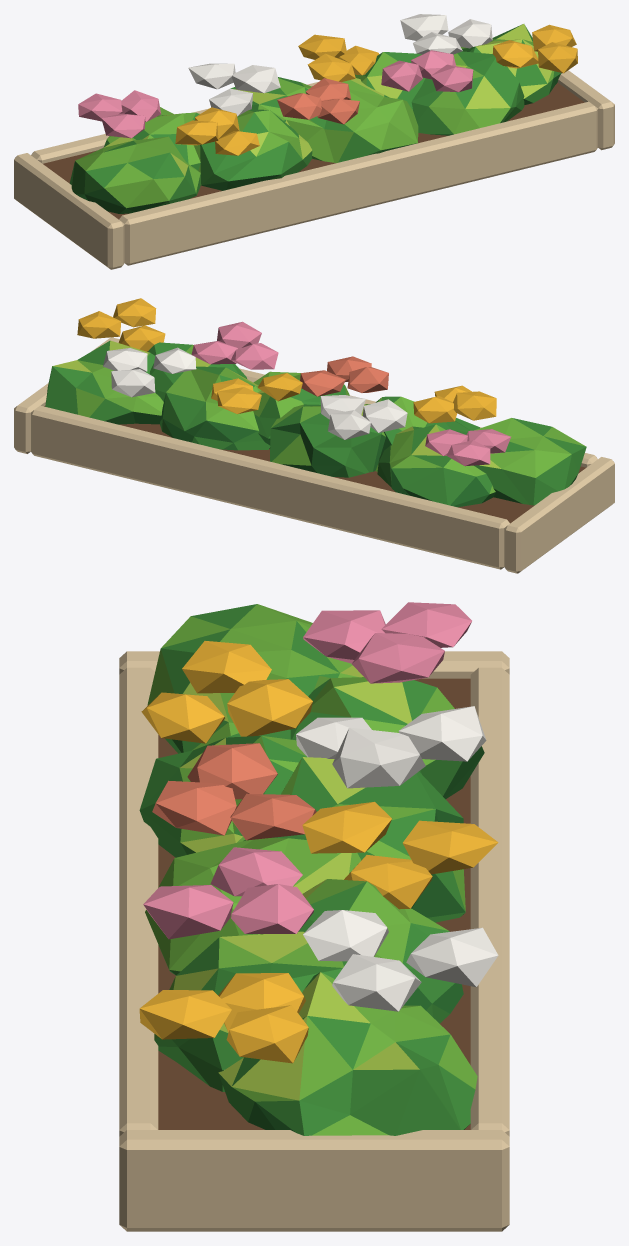
File: flowerbed.glb
3 views of the same model, one above another, from view 1: azimuth 30°, elevation 25°; view 2: azimuth 150°, elevation 25°; view 3: azimuth 270°, elevation 25° (orthographic). The views are drawn at different scales.
Parts seen in each view (by area): view 1: body; view 2: body; view 3: body.
Part boxes in pixels (x1,y1,x2,y2): body: (14,14,614,269); body: (14,298,614,573); body: (119,602,509,1231).
Size of the model in its own units: 3 by 0.6173 by 1.
